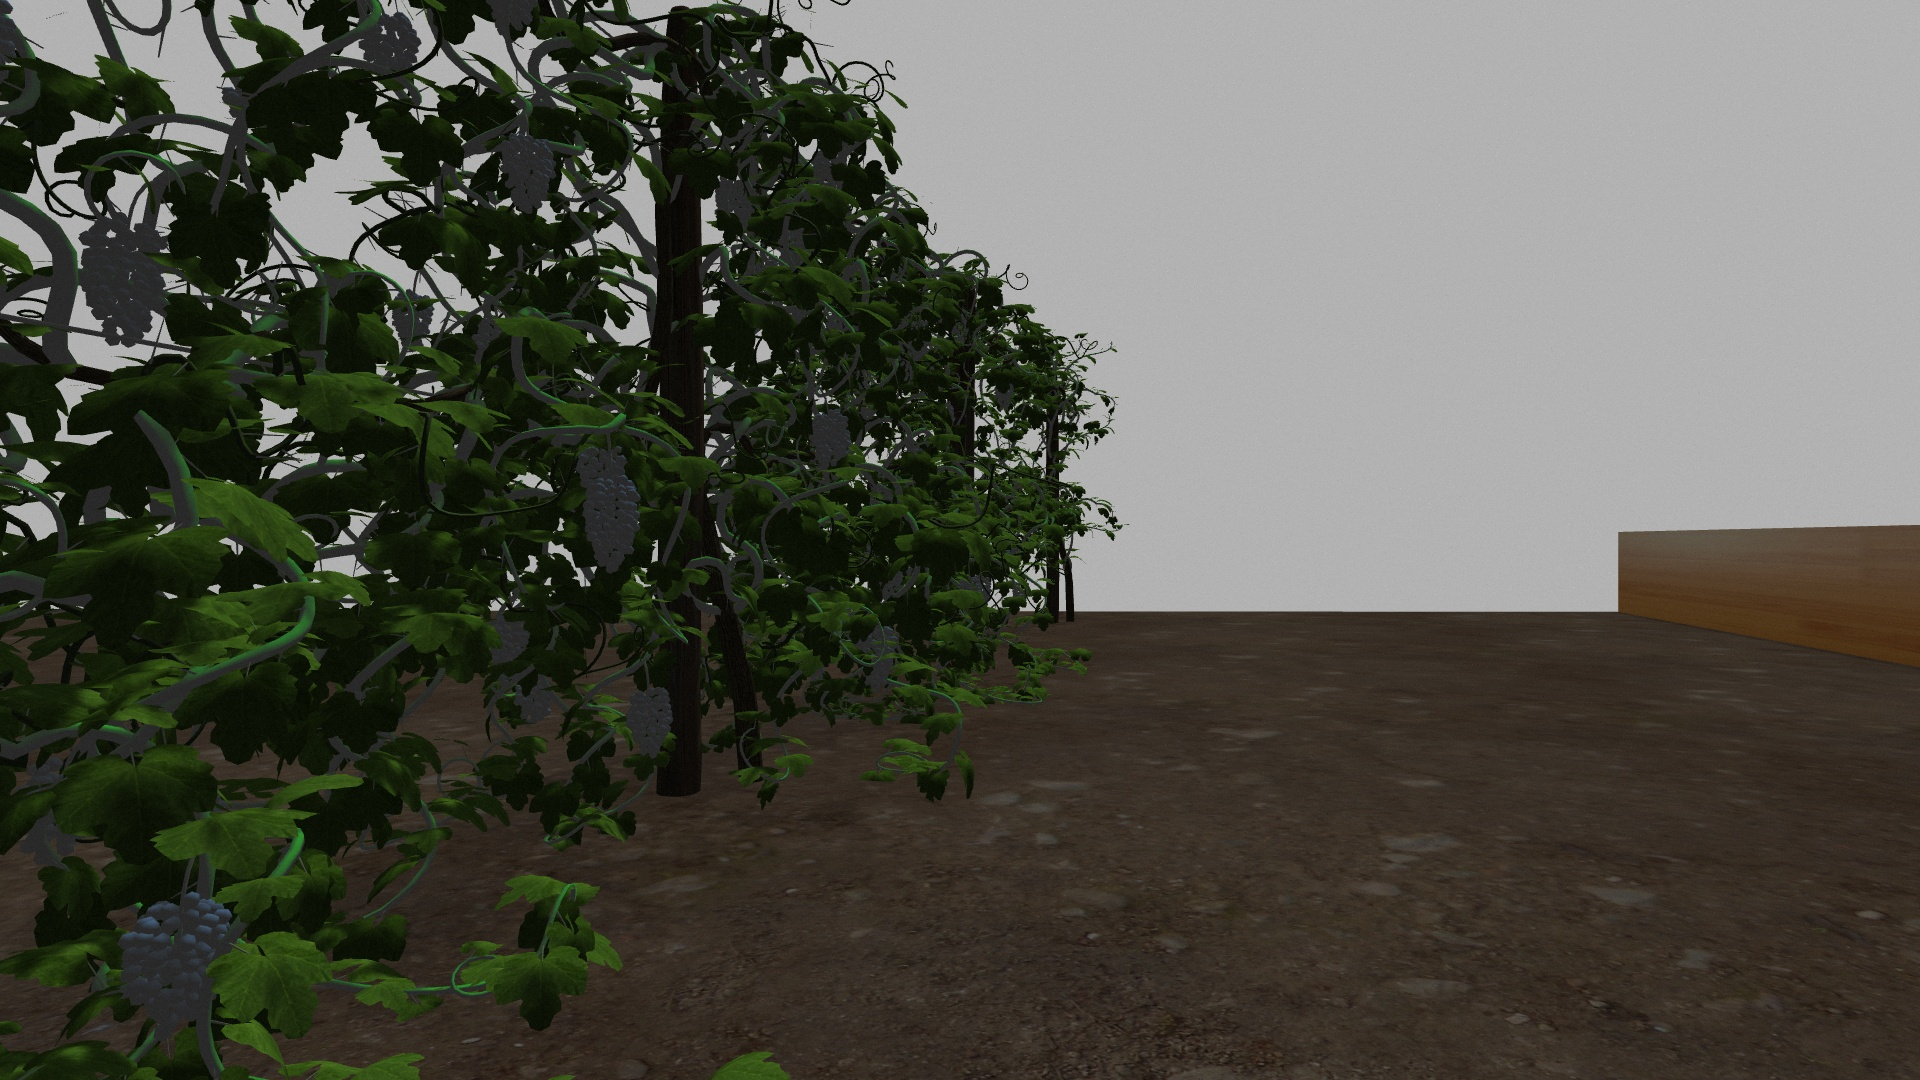grape: (115, 890, 237, 1043), (76, 216, 170, 348), (587, 477, 642, 575), (501, 131, 556, 215), (360, 15, 419, 91), (626, 684, 676, 761), (389, 290, 435, 348), (861, 625, 899, 694), (488, 618, 530, 680), (811, 410, 852, 465), (578, 446, 626, 484), (513, 683, 553, 723), (731, 183, 754, 228), (713, 177, 737, 215)
